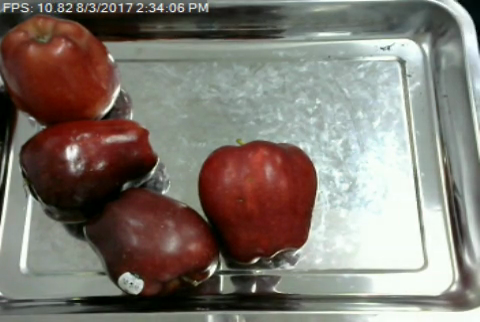Apple: (81, 184, 222, 302), (196, 137, 323, 266), (17, 115, 160, 225), (0, 11, 125, 126)
